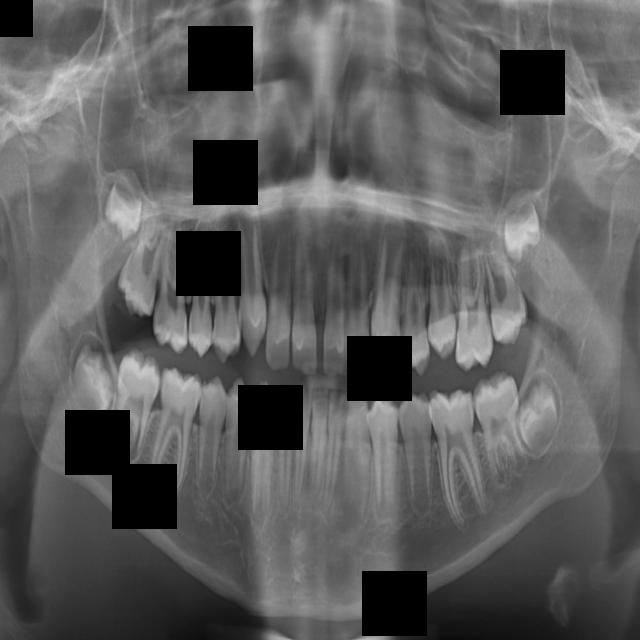3M ESPE Implant: (95, 163, 145, 251)
AGS Medikal Implant: (470, 364, 535, 494)
AMerOss Implant: (426, 380, 494, 537)
Amalgam filling: (110, 190, 171, 324)
Anthogyr Implant: (398, 384, 438, 521)
Bicon Implant: (369, 385, 401, 523)
BioHorizons Implant: (343, 380, 371, 529)
BioLife Implant: (320, 386, 347, 520)
Biomet 3i Implant: (306, 387, 329, 499)
Blue Sky Bio Implant: (286, 385, 313, 507)
Camlog Implant: (274, 384, 294, 516)
Caries: (346, 200, 371, 378)
Composite filling: (250, 376, 275, 534)
Cowellmedi Implant: (222, 374, 251, 514)
Crown: (190, 371, 229, 504)
DENTSPLY Implant: (147, 203, 190, 359)
Dentatus Implant: (135, 362, 205, 514)
Dentis Implant: (102, 340, 165, 472)
Dentium Implant: (68, 339, 117, 425)
Euroteknika Implant: (184, 228, 214, 361)
Filling: (213, 223, 243, 369)
Frontier Implant: (226, 184, 272, 363)
Hiossen Implant: (367, 206, 409, 376)
Implant: (287, 205, 317, 379)
Implant Direct: (263, 202, 297, 373)
Keystone Dental Implant: (322, 193, 353, 381)
MIS Implant: (400, 233, 433, 381)
Mandible: (413, 223, 461, 363)
Maxilla: (452, 237, 500, 377)
Megagen Implant: (479, 214, 533, 351)
Neodent Implant: (496, 197, 548, 271)
Neoss Implant: (513, 373, 566, 463)
